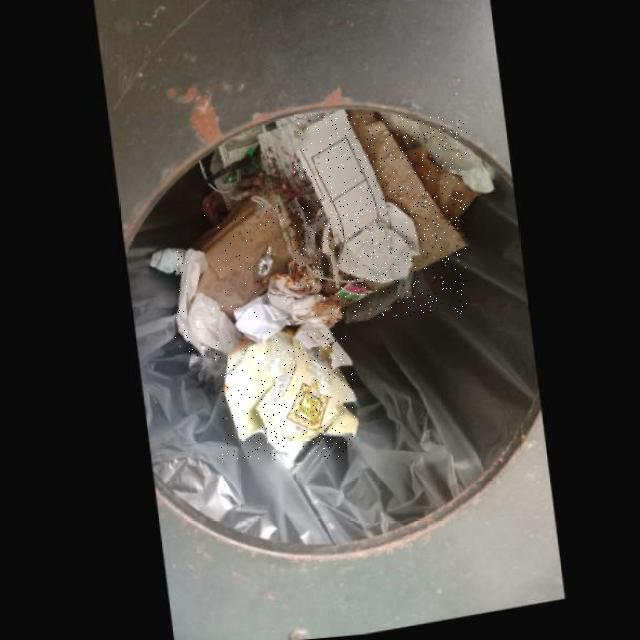paper: (316, 117, 467, 316), (295, 115, 418, 289), (187, 206, 290, 328), (174, 251, 240, 360), (230, 298, 299, 348)
wrapper: (222, 333, 355, 461)
